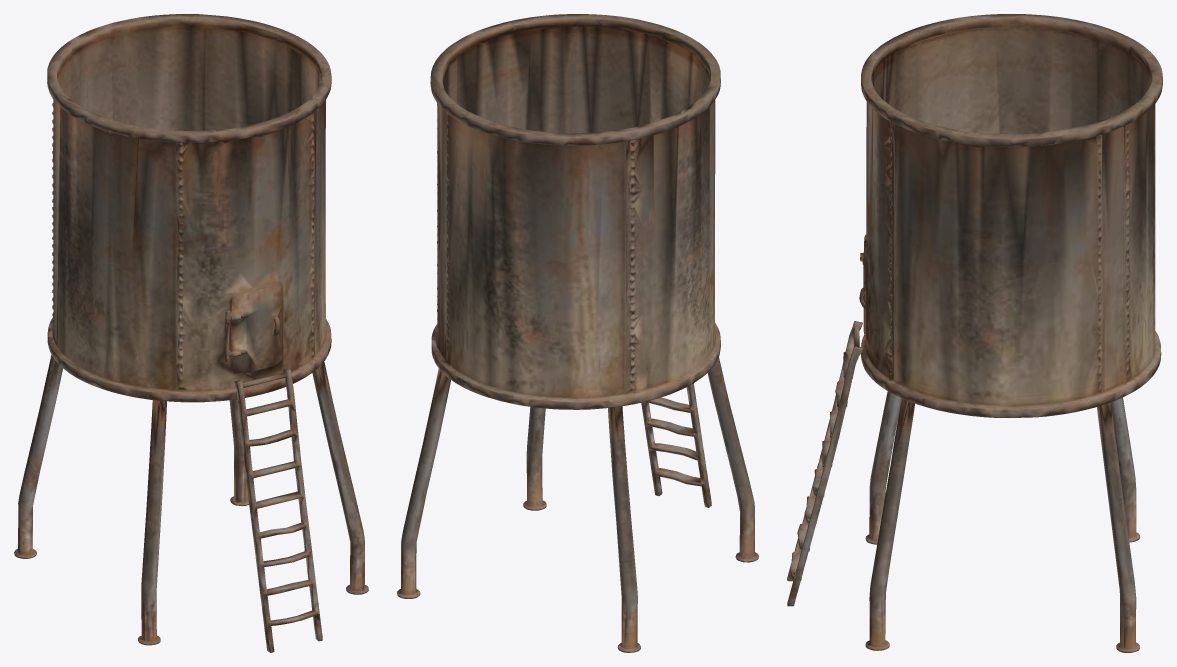
File: watertank.glb
3 renders of one model, left to right at view 1: azimuth 30°, elevation 25°; view 2: azimuth 150°, elevation 25°; view 3: azimuth 270°, elevation 25°, orthographic. The views are drawn at different scales.
Size of the model in its own units: 0.9826 by 1.89 by 1.25.
Materials: 1 (1 with a texture image).
